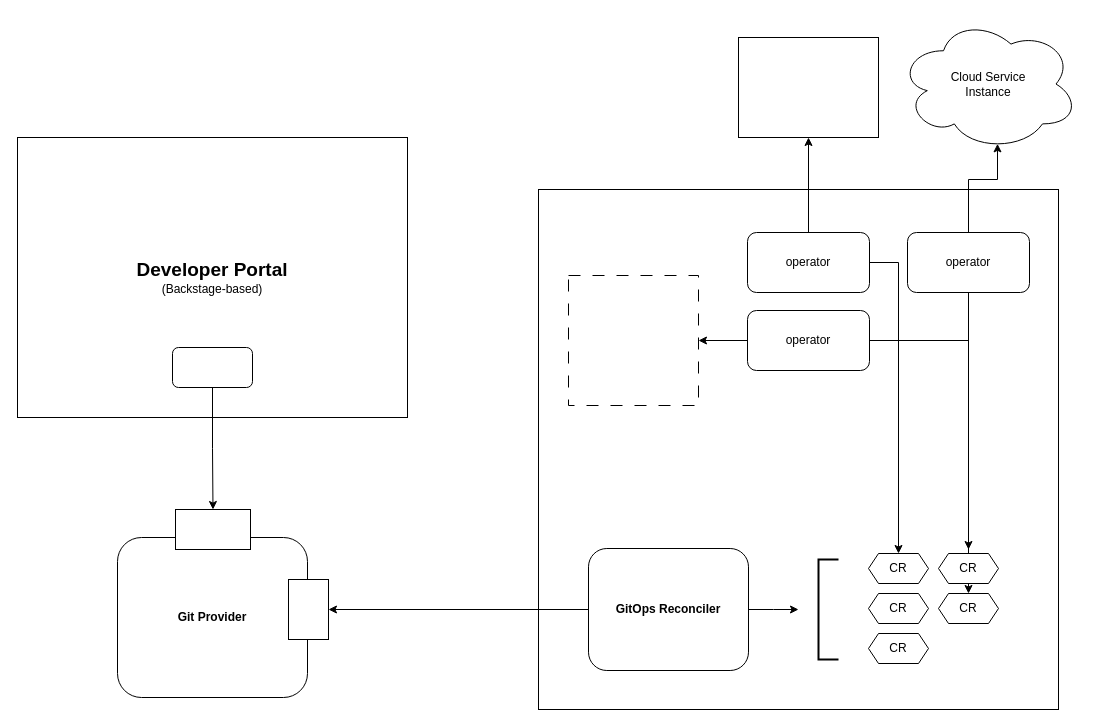
Some shapes in this 1096 by 727 pixel diagram are drawn without their labels. Here are the shapes that lost their labels. From the top down, the box of each, then its label:
(738, 36, 878, 138): Infrastructure Management Appliance (on-prem datacenter)
(568, 274, 698, 406): Middleware (managed in the local container platform)
(172, 346, 252, 388): plugin
(538, 188, 1058, 710): Container Platform (Kubernetes-based)
(174, 508, 250, 550): API / Git Protocol
(288, 578, 328, 640): Git
